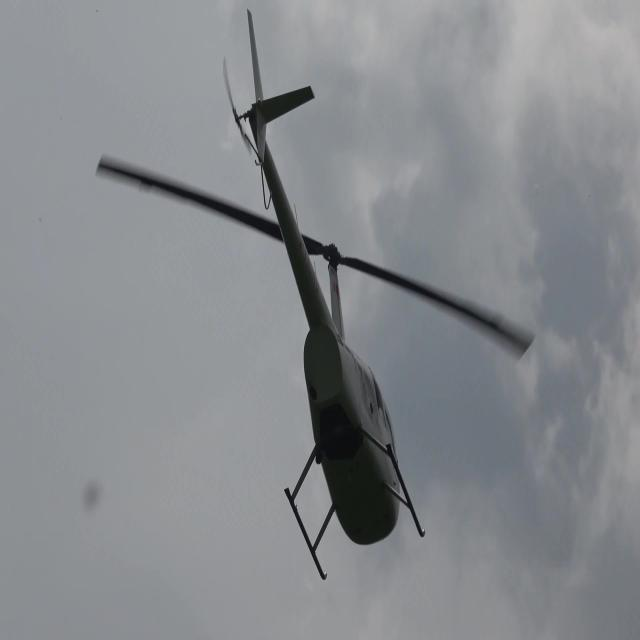CIV_HELO: (238, 0, 427, 582)
